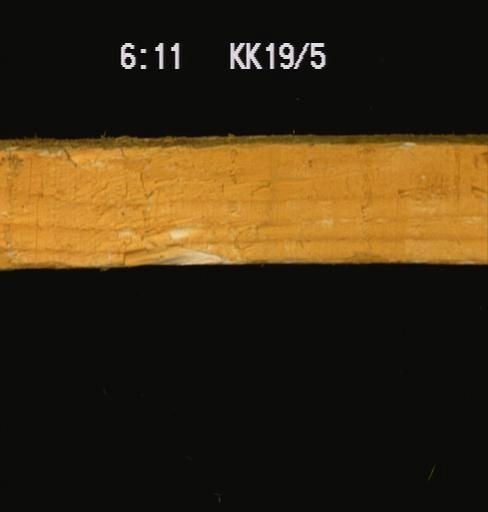wave: (110, 219, 238, 265)
